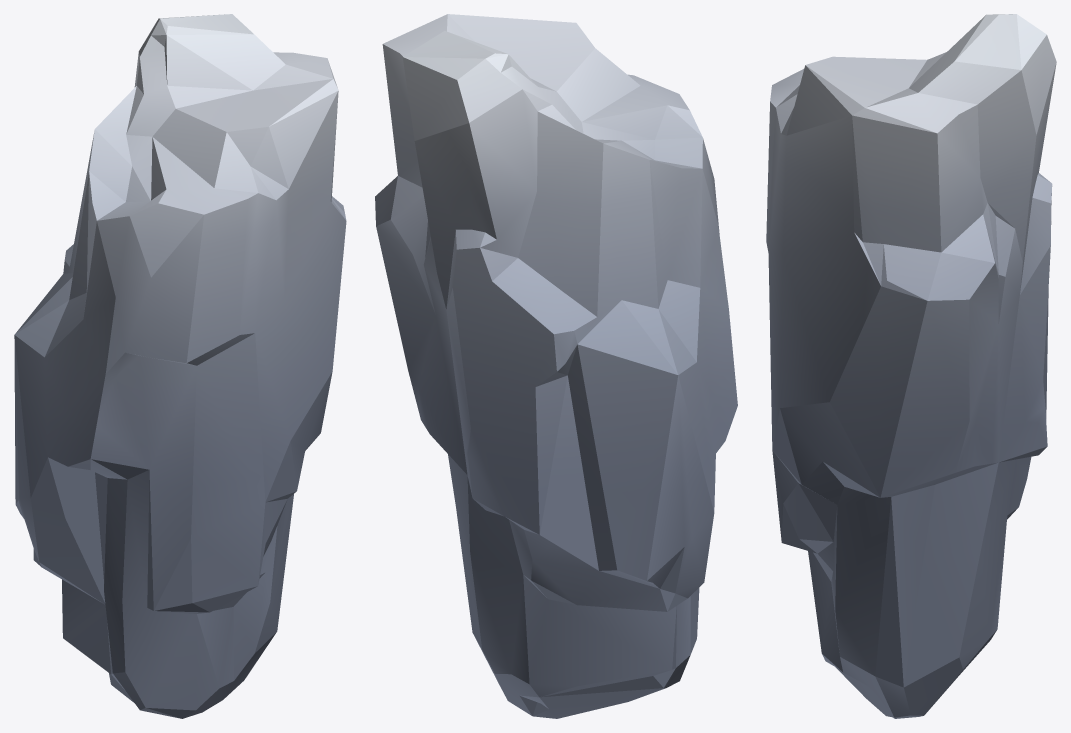
The model's file is Terrain_Stage2_Mountain_6.fbx.
The picture shows the model from 3 angles, left to right: view 1: azimuth 30°, elevation 25°; view 2: azimuth 150°, elevation 25°; view 3: azimuth 270°, elevation 25°; orthographic projection. The views are drawn at different scales.
Parts seen in each view (by area): view 1: terrain_mountain_428_LOD0; view 2: terrain_mountain_428_LOD0; view 3: terrain_mountain_428_LOD0.
Boxes of the visible parts, bbox=[...] form: terrain_mountain_428_LOD0: bbox=[14, 14, 346, 718]; terrain_mountain_428_LOD0: bbox=[375, 14, 737, 718]; terrain_mountain_428_LOD0: bbox=[766, 14, 1056, 718].
Size of the model in its own units: 1804 by 3568 by 1322.
1 material, 1 textured.
